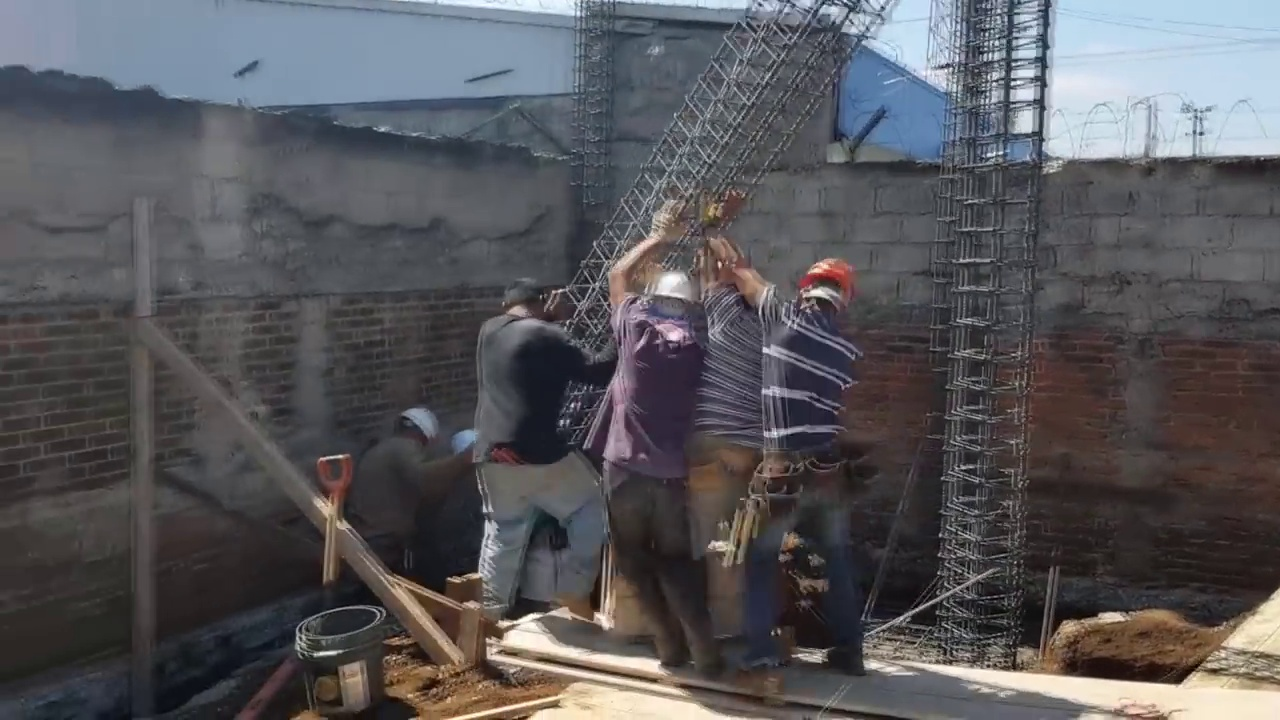helmet: (799, 256, 857, 311), (650, 273, 695, 304), (401, 410, 440, 440), (451, 429, 479, 455)
helmet-off: (499, 281, 561, 320)
helmet-on: (795, 254, 857, 326), (640, 269, 705, 334), (391, 408, 440, 451)
person: (592, 241, 708, 693), (469, 271, 608, 636), (765, 249, 866, 673), (354, 413, 476, 586), (699, 245, 779, 480)
